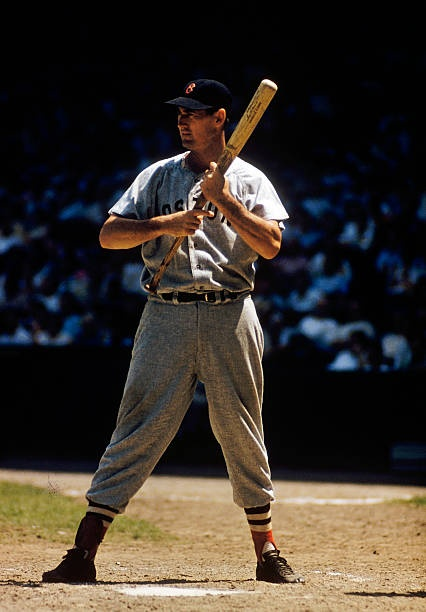bita: (153, 86, 274, 288)
